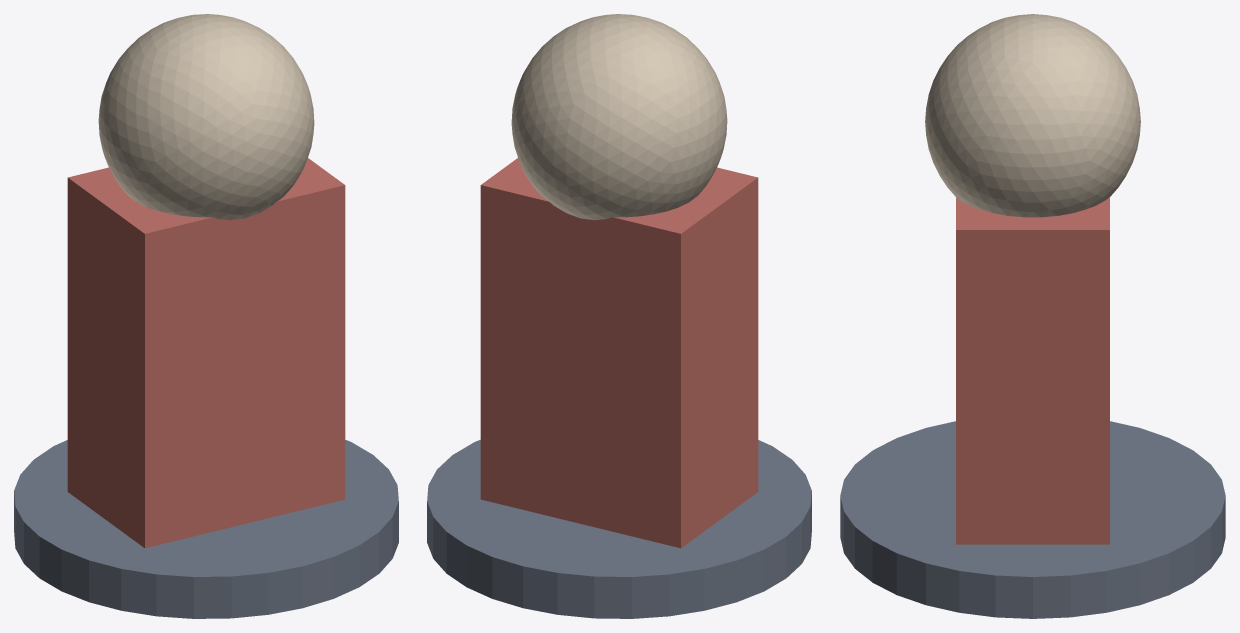
Rendered from test-figure.glb.
3 views of the same model, side by side, from view 1: azimuth 30°, elevation 25°; view 2: azimuth 150°, elevation 25°; view 3: azimuth 270°, elevation 25° (orthographic).
Visible parts, largest first — view 1: geometry_0; view 2: geometry_0; view 3: geometry_0.
Part boxes in pixels (<box>): geometry_0: <box>14,14,398,618</box>; geometry_0: <box>427,14,811,618</box>; geometry_0: <box>840,14,1225,618</box>.
Size of the model in its own units: 1 by 1.47 by 1.
